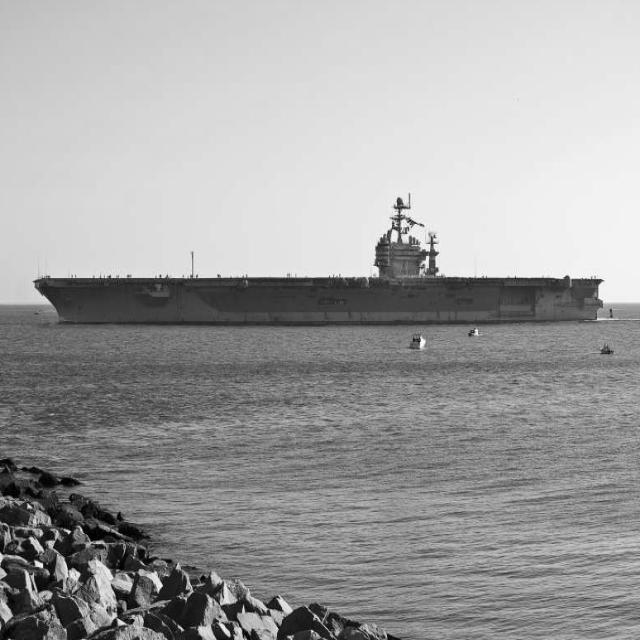Portanaves: (33, 186, 610, 329)
